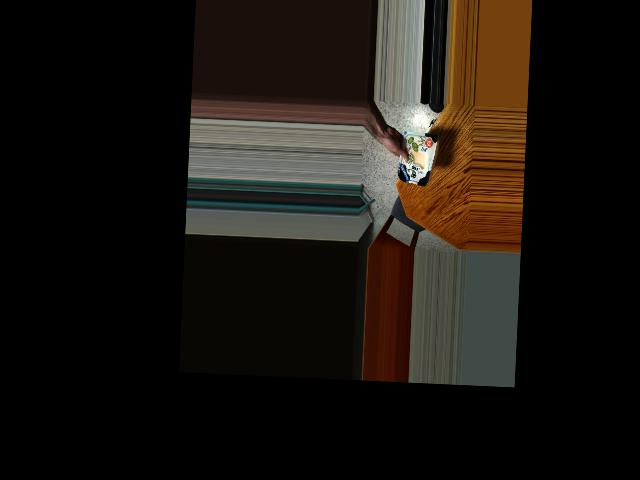cheese: (396, 137, 435, 188)
